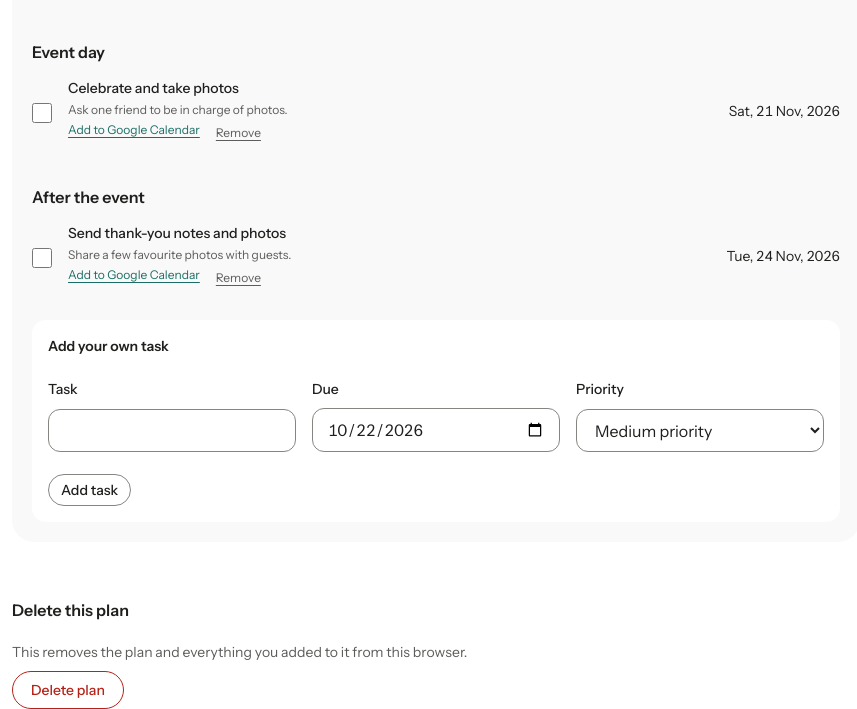
Test: things going wrong › explains a cleared date instead of failing silently
(page scrolled)
Type "Buy candles" into the field labelled "Task" at (172, 431), box [48,409,296,452]
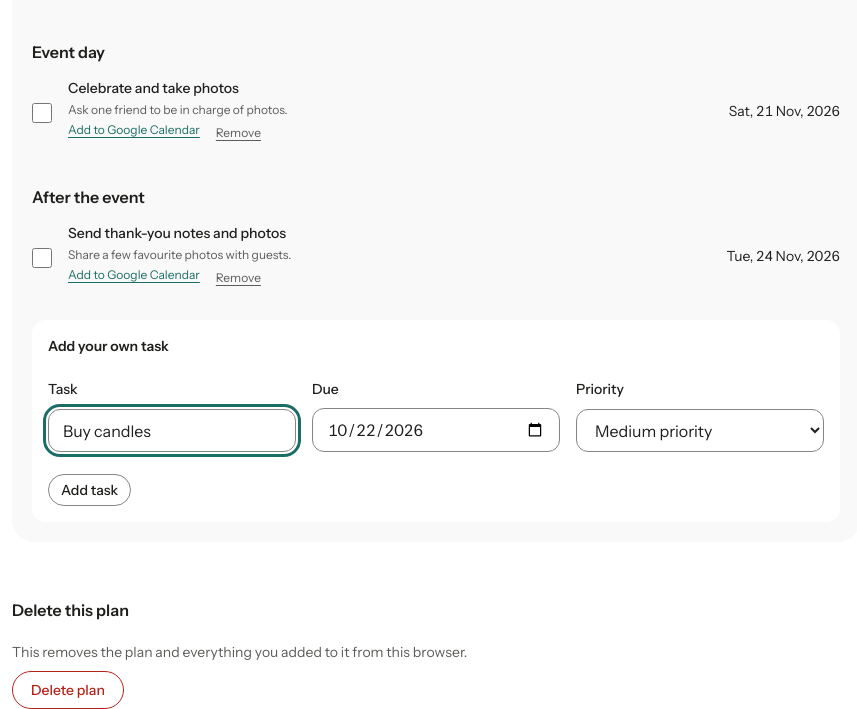
Clear the date field labelled "Due" at (436, 430), box [312,408,560,452]
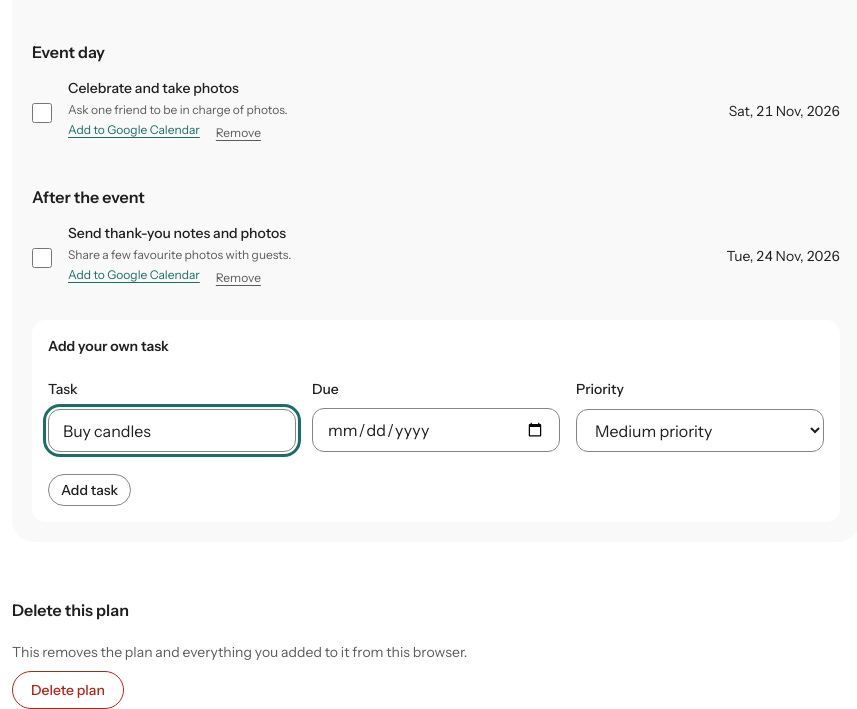
Click the button "Add task" at (90, 490), box [48,474,131,506]
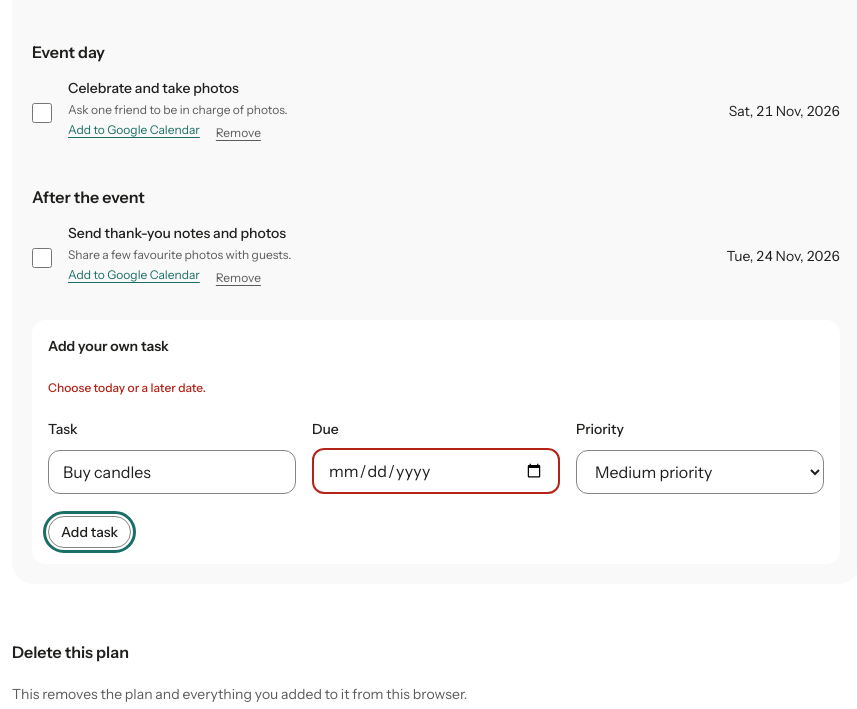
Now the message reads "Choose today or a later date.", box [48,380,206,395]
